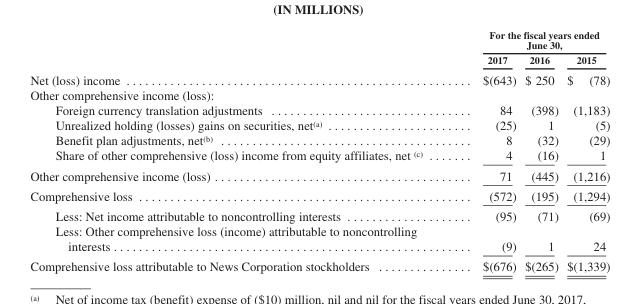table: (29, 28, 609, 273)
table column: (29, 28, 452, 273), (452, 28, 519, 273), (562, 28, 609, 273), (519, 28, 562, 273)
table column header: (29, 28, 609, 68)
table projected row header: (29, 86, 609, 102)
table row: (29, 223, 609, 256), (29, 28, 609, 52), (29, 165, 609, 185), (29, 185, 609, 205), (29, 68, 609, 86), (29, 147, 609, 165), (29, 205, 609, 223), (29, 256, 609, 273), (29, 52, 609, 68), (29, 86, 609, 102), (29, 102, 609, 117), (29, 117, 609, 132), (29, 132, 609, 147)
table spanning cell: (452, 28, 609, 52)
